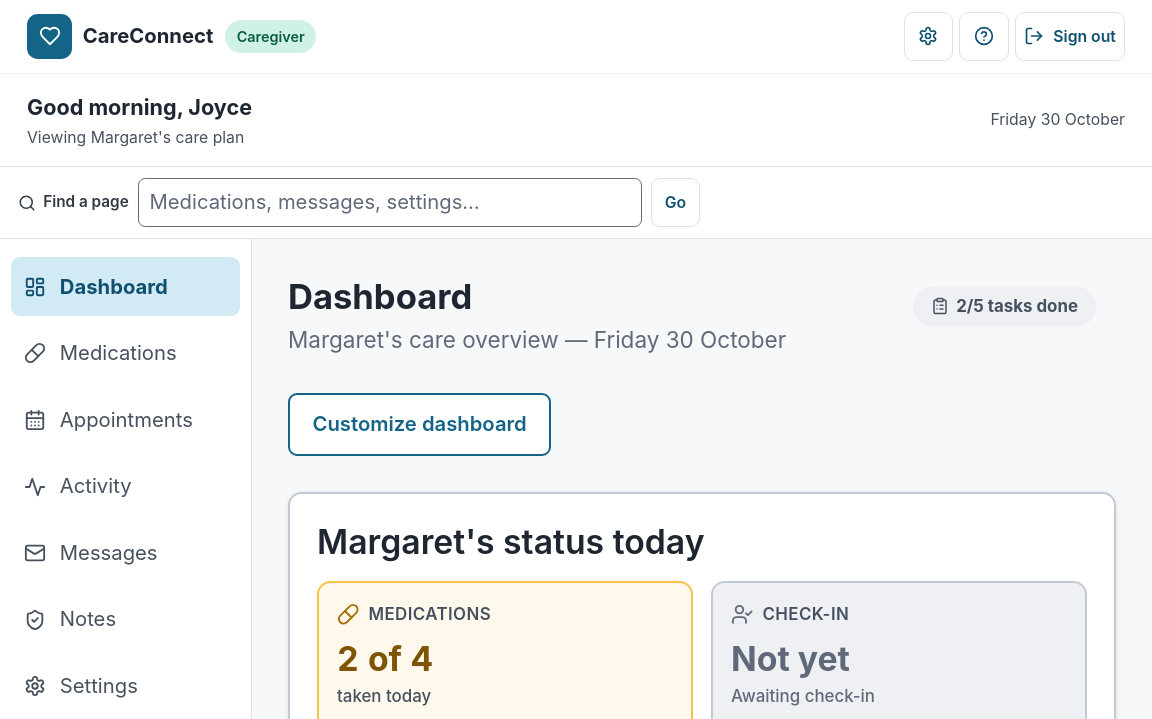
signed-in routes › signs out and returns to the landing page
The width and height of the screenshot is (1152, 719).
Click the button with aria-label "Sign out of CareConnect": {"x": 1070, "y": 36} left=1015, top=12, right=1125, bottom=61
(page scrolled)
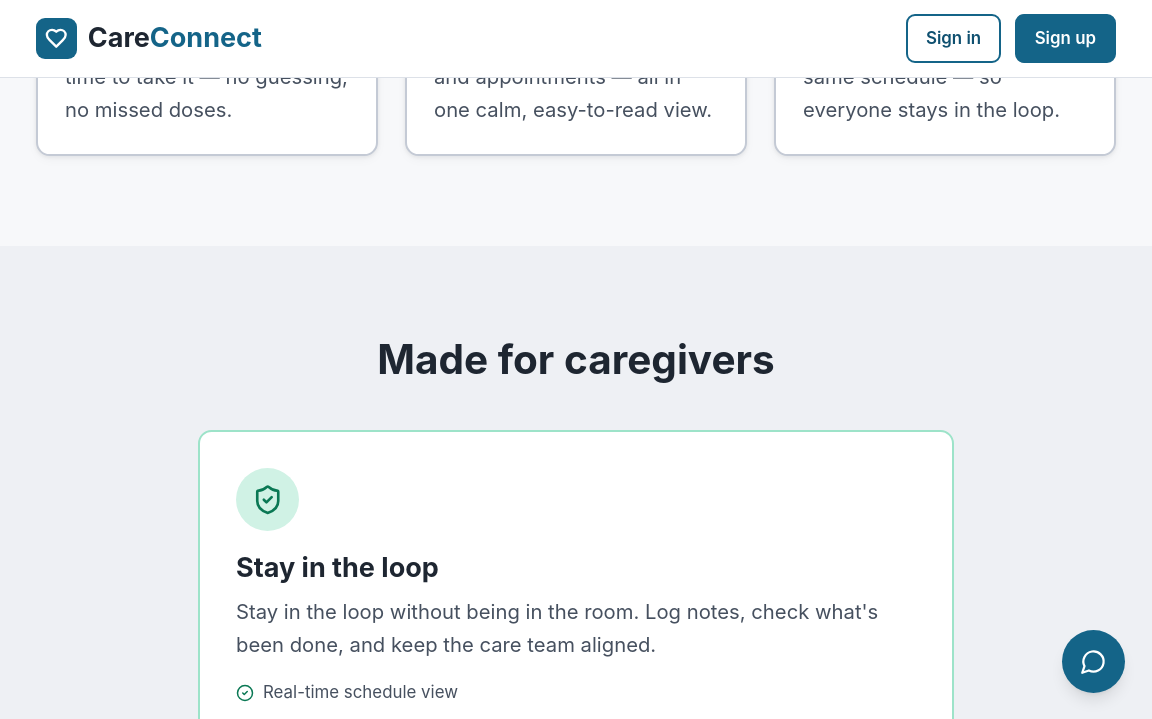
Check: the heading "Made for caregivers" is shown, box left=377, top=335, right=775, bottom=384
